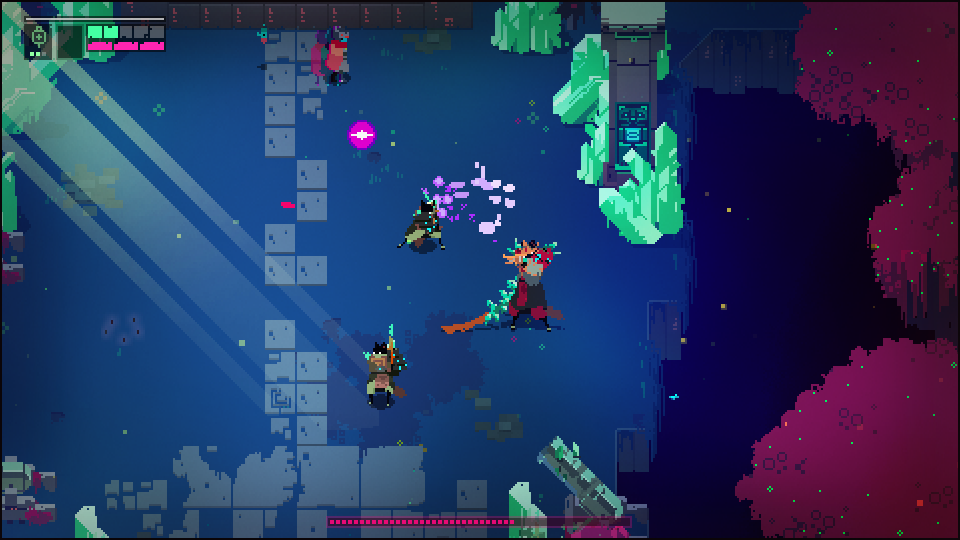hanged_man: (473, 231, 574, 331)
hanged_shot: (346, 119, 377, 152)
player: (319, 30, 355, 90)
